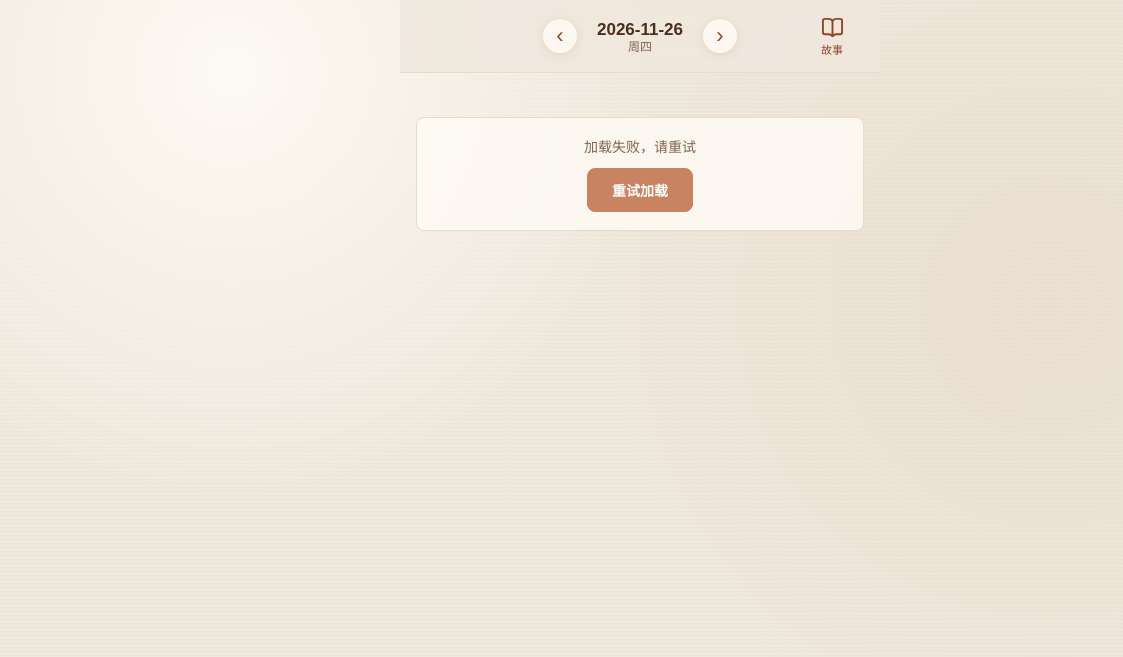
Test: Today fragment-only record page › load failure shows role alert with retry; retry reloads and success clears the error
expect the message reads "加载失败，请重试 重试加载": met, box [584,139,696,155]
Step 1. Click the button "重试加载" → (640, 190), box [587,168,693,212]
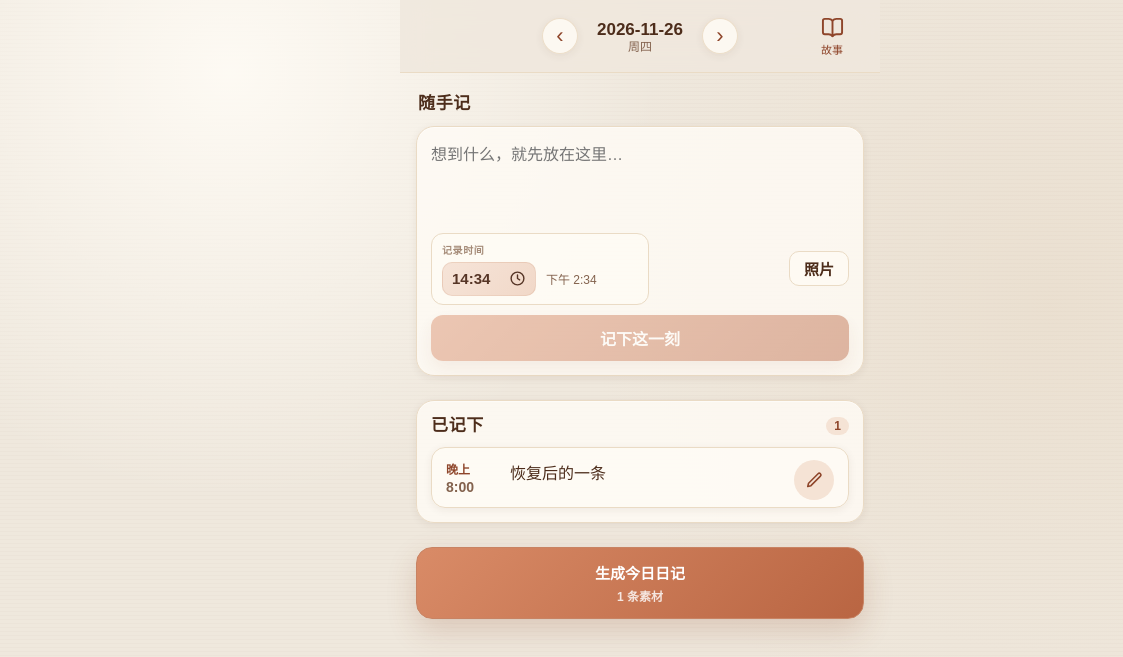
expect the text "恢复后的一条" is shown: met, box [510,465,606,482]
expect the message "加载失败，请重试 重试加载" is gone: met
